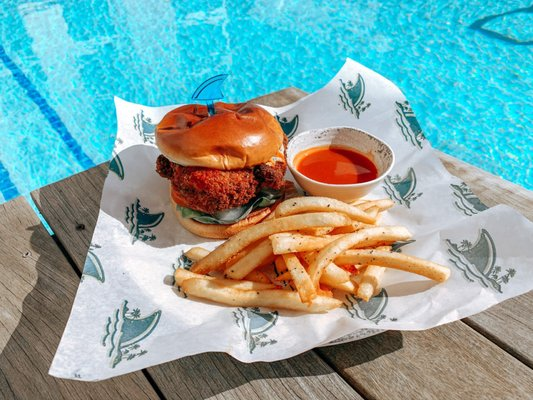soup: (154, 102, 293, 239)
sushi: (286, 126, 396, 203)
